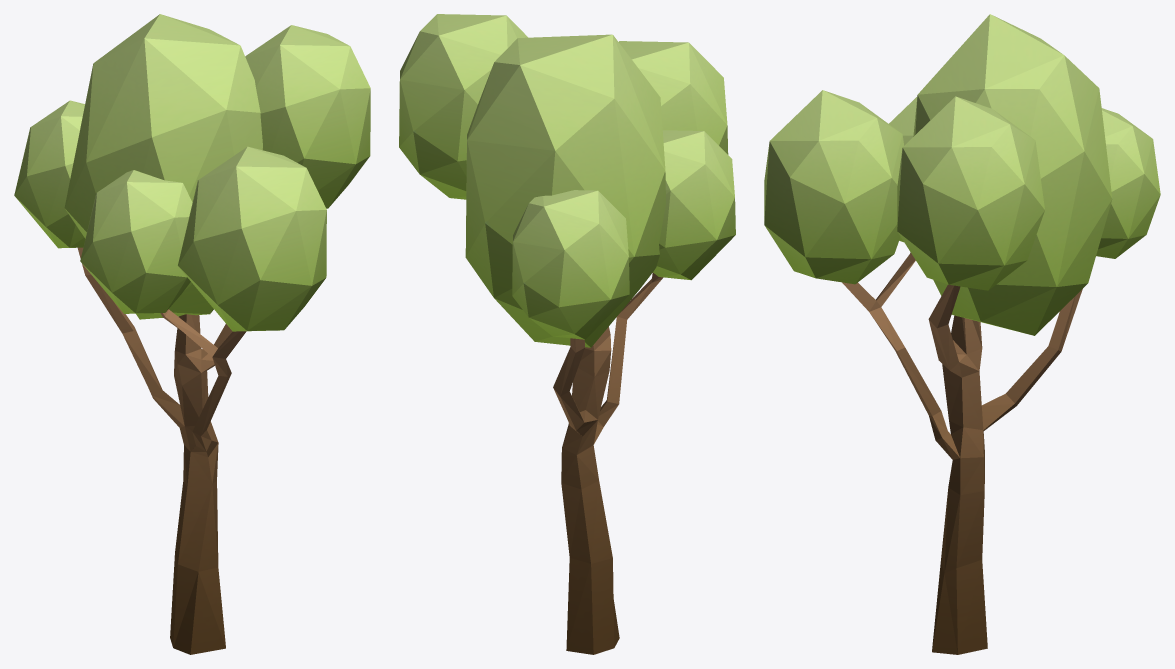
File: ZLP_Plant_I_4.FBX
The picture shows the model from 3 angles, left to right: view 1: azimuth 30°, elevation 25°; view 2: azimuth 150°, elevation 25°; view 3: azimuth 270°, elevation 25°; orthographic projection. The views are drawn at different scales.
Parts seen in each view (by area): view 1: ZLP_Plant_I_4; view 2: ZLP_Plant_I_4; view 3: ZLP_Plant_I_4.
Part boxes in pixels (x1,y1,x2,y2): ZLP_Plant_I_4: (14, 14, 370, 654); ZLP_Plant_I_4: (399, 14, 735, 654); ZLP_Plant_I_4: (764, 14, 1160, 654).
Size of the model in its own units: 69.66 by 136 by 79.98.
